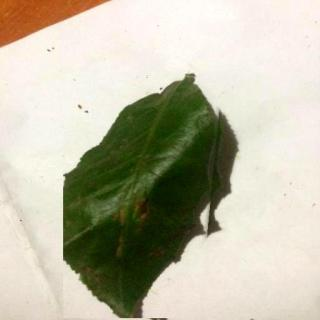Red Leaf Spot: (65, 74, 225, 319)
